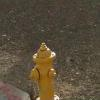Hydrant: (26, 35, 74, 100)
